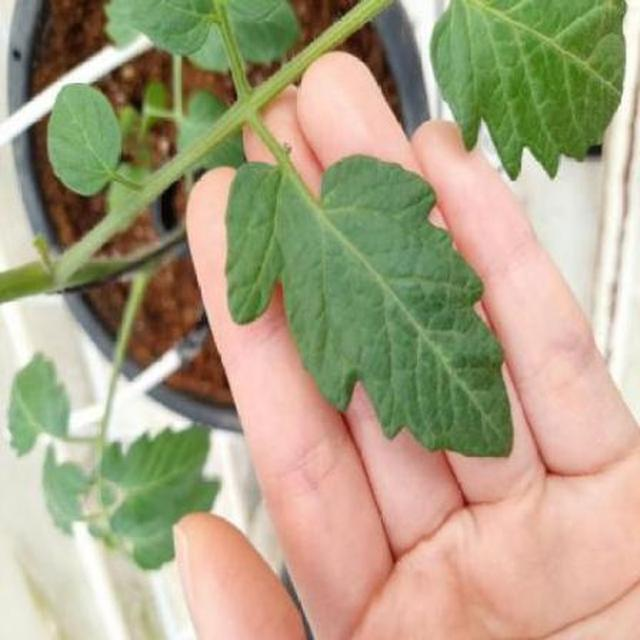Healthy Leaf: (106, 163, 528, 438)
